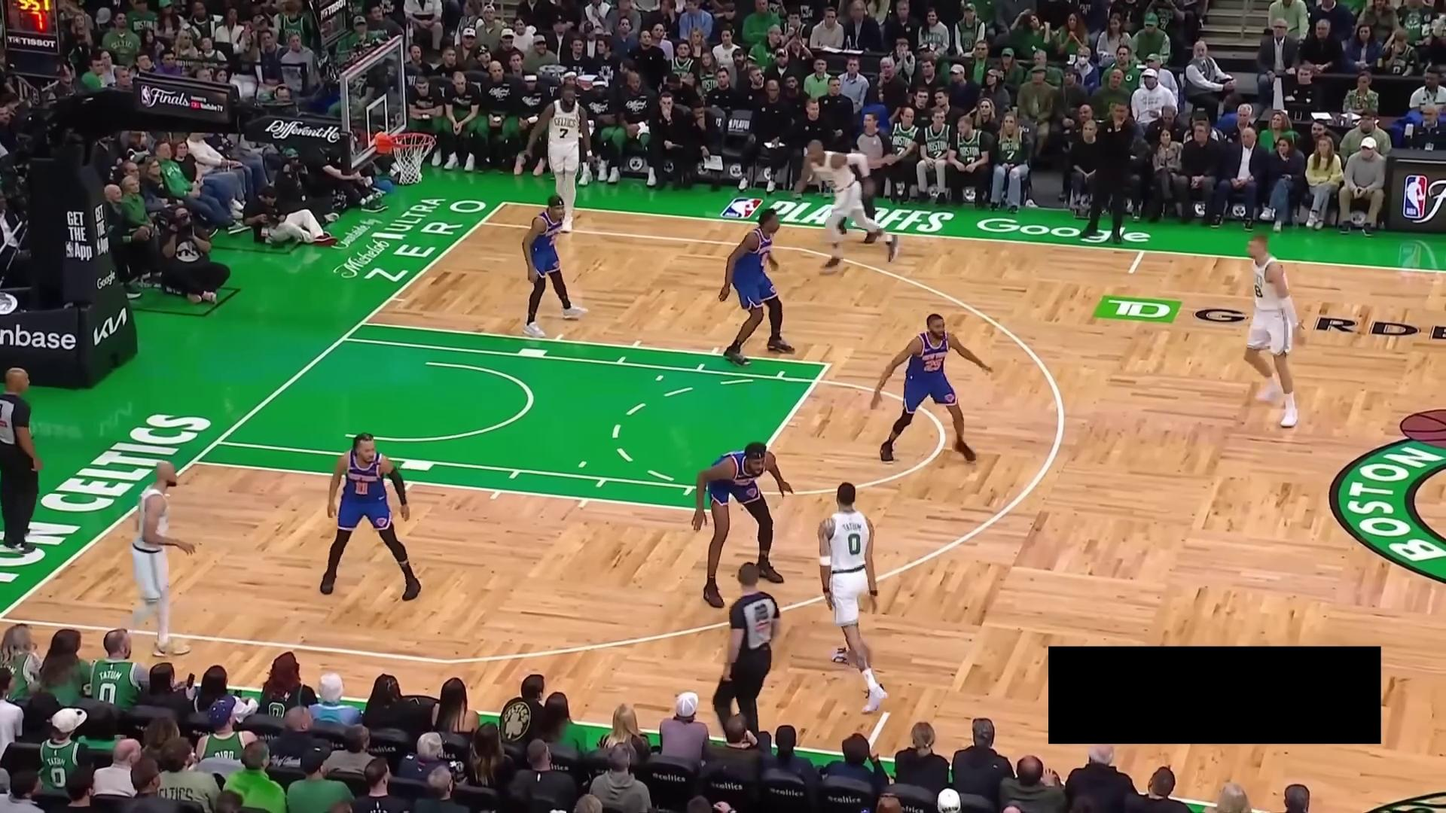ball: (839, 636, 874, 668)
number: (846, 533, 863, 554), (922, 357, 944, 373), (353, 480, 370, 496), (559, 126, 570, 139), (1254, 283, 1263, 298)
player: (865, 310, 998, 465), (317, 431, 423, 607), (688, 439, 797, 609), (784, 127, 902, 276), (114, 453, 196, 658), (713, 201, 799, 369), (1237, 229, 1307, 430), (518, 77, 598, 243), (520, 193, 589, 342)
player-in-possession: (812, 479, 892, 712)
referee: (708, 554, 781, 749), (0, 360, 51, 550)
rim: (392, 130, 435, 148)
